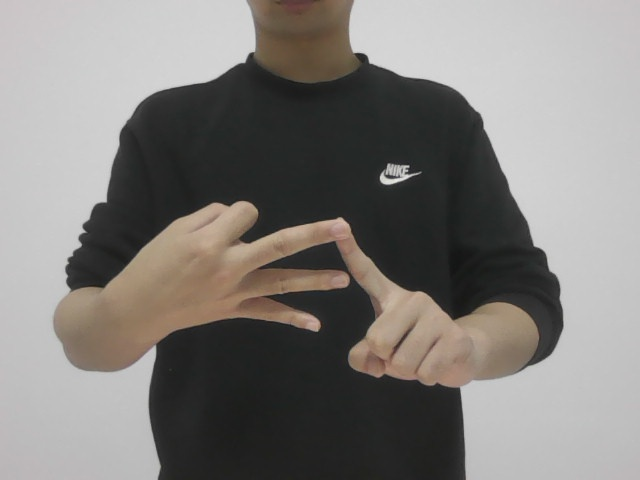name: (144, 185, 474, 403)
